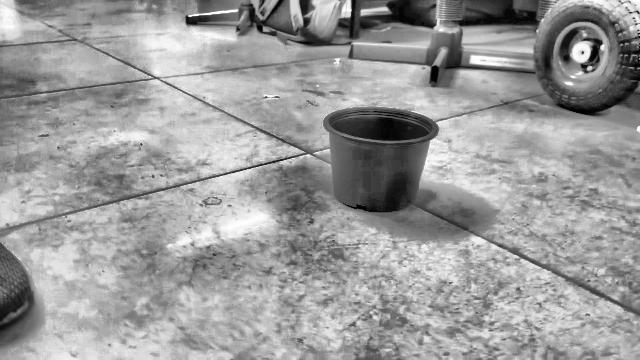pot: (324, 107, 437, 212)
